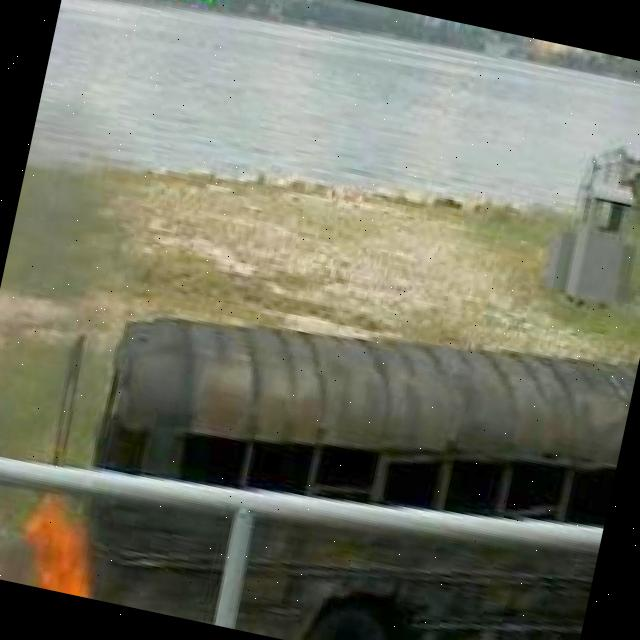fire: (9, 498, 100, 597)
